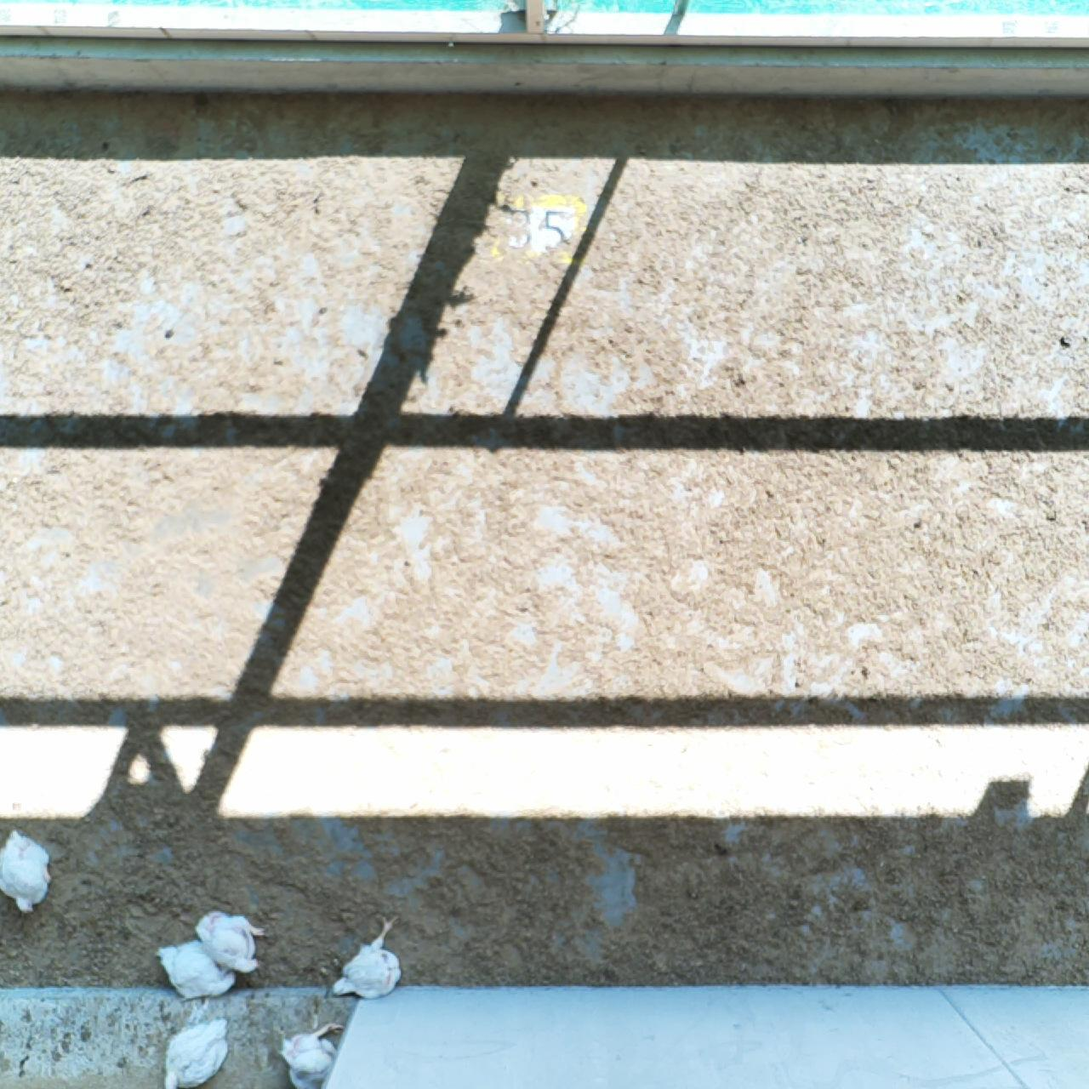chicken: (332, 917, 413, 1005), (197, 906, 269, 975), (281, 1020, 350, 1089), (155, 944, 237, 1001), (165, 1018, 227, 1089), (1, 832, 49, 917)
